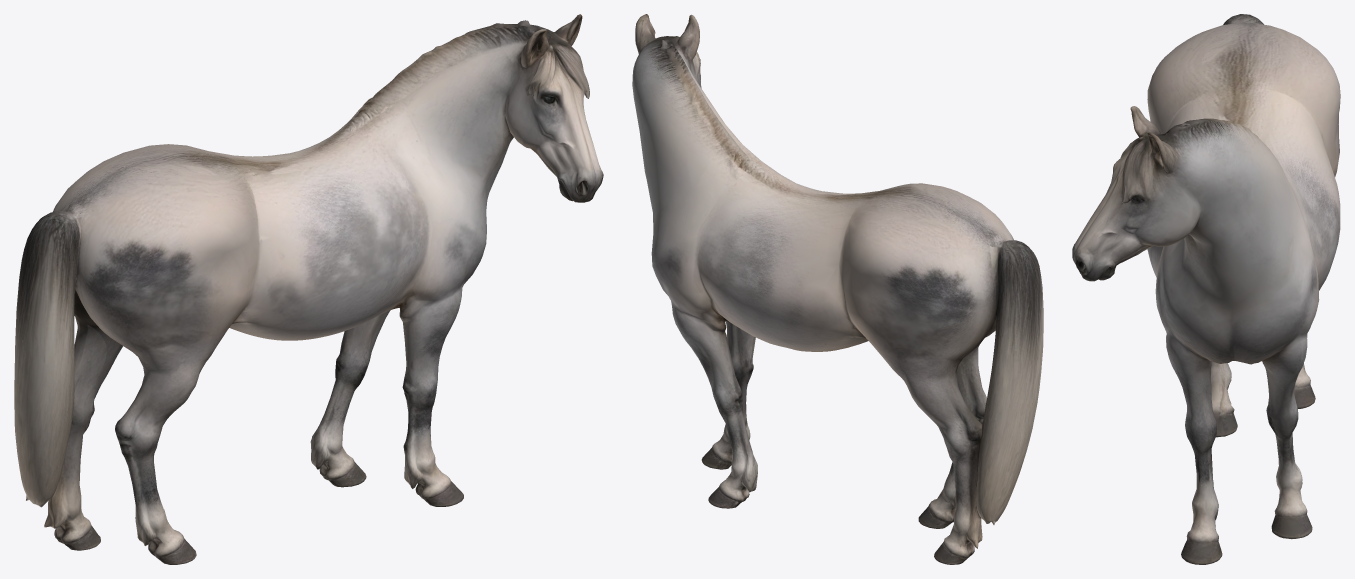
The picture shows the model from 3 angles, left to right: view 1: azimuth 30°, elevation 25°; view 2: azimuth 150°, elevation 25°; view 3: azimuth 270°, elevation 25°; orthographic projection. The views are drawn at different scales.
Visible parts, largest first — view 1: node_0; view 2: node_0; view 3: node_0.
Boxes of the visible parts, x1,y1,x2,y2 form: node_0: [14, 14, 603, 564]; node_0: [632, 14, 1043, 564]; node_0: [1072, 14, 1340, 564].
Size of the model in its own units: 0.9018 by 0.8046 by 0.4057.
1 material, 1 textured.
